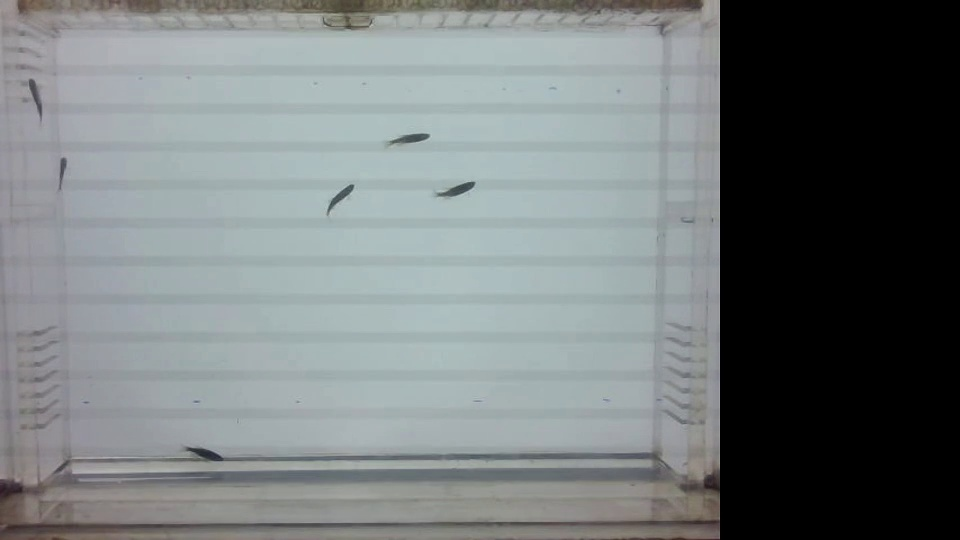fish: (372, 124, 436, 161), (24, 74, 52, 136), (425, 176, 478, 208), (319, 182, 359, 223), (180, 440, 232, 468), (56, 148, 76, 202)
